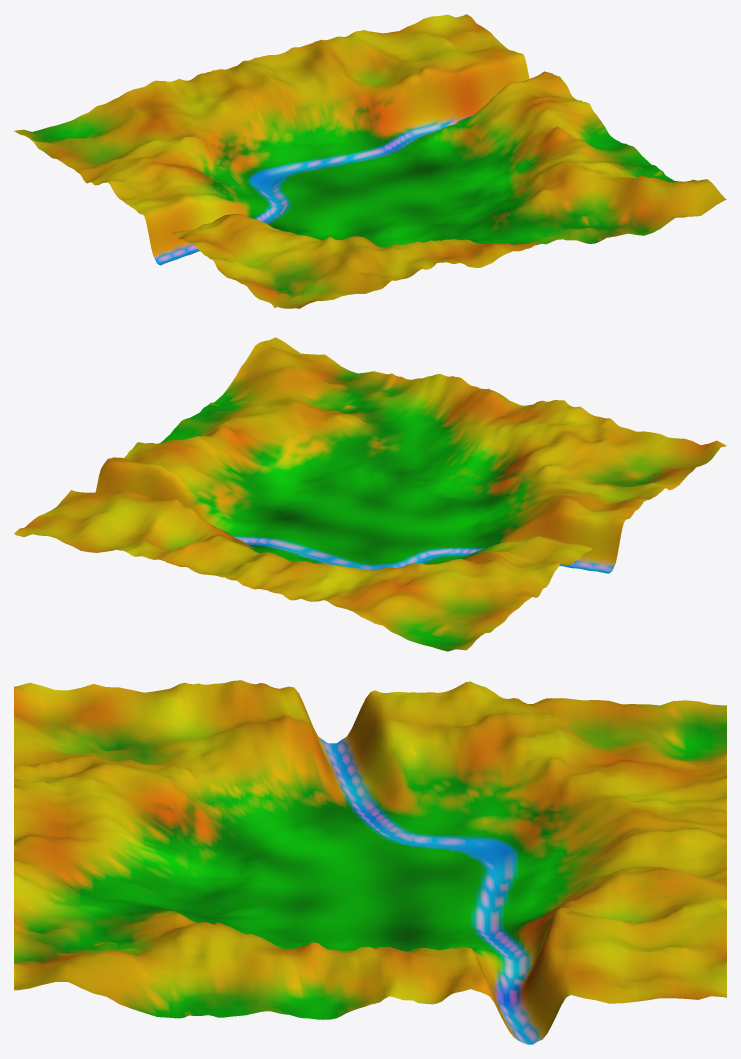
File: terrain.glb
3 renders of one model, top to bottom at view 1: azimuth 30°, elevation 25°; view 2: azimuth 150°, elevation 25°; view 3: azimuth 270°, elevation 25°, orthographic. The views are drawn at different scales.
Parts seen in each view (by area): view 1: terrain; view 2: terrain; view 3: terrain.
Part boxes in pixels (x1=…): terrain: x1=14, y1=14, x2=726, y2=308; terrain: x1=14, y1=337, x2=726, y2=651; terrain: x1=14, y1=680, x2=726, y2=1044.
Size of the model in its own units: 224 by 23.69 by 224.
